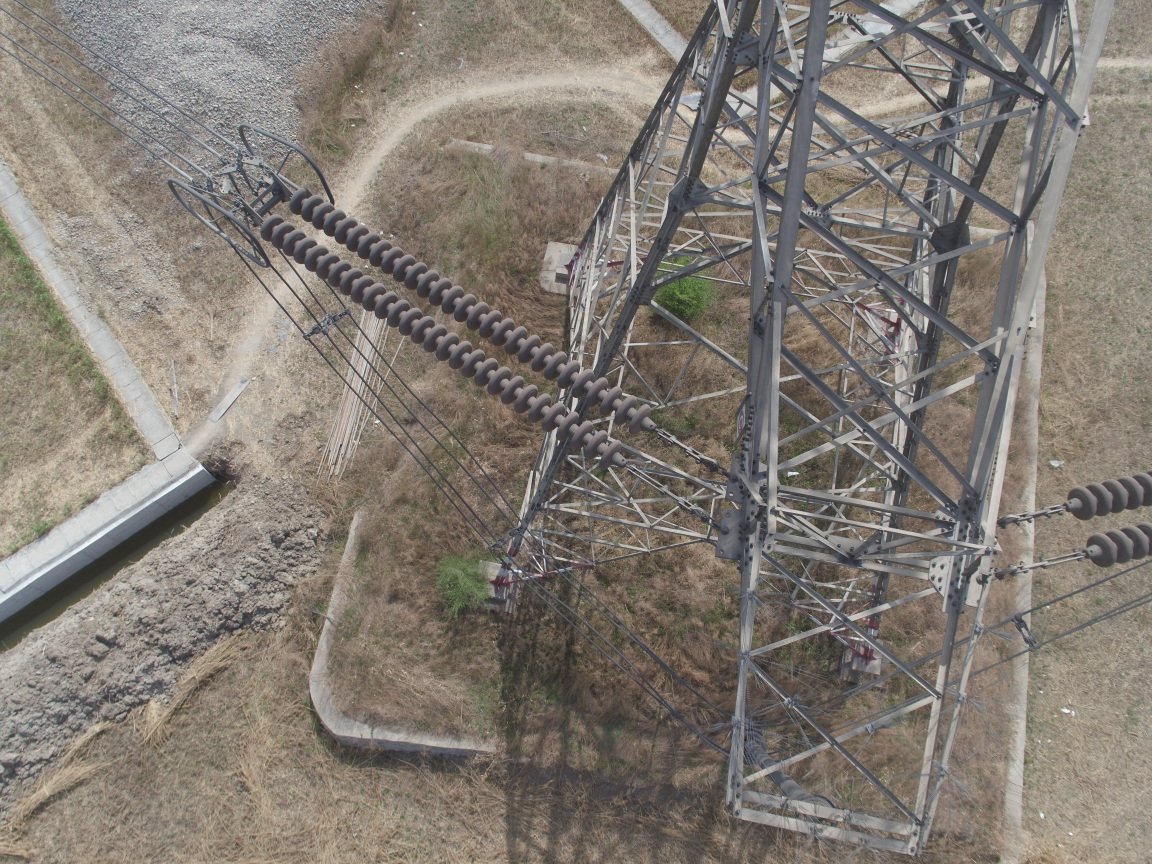insulator: (241, 174, 685, 483)
